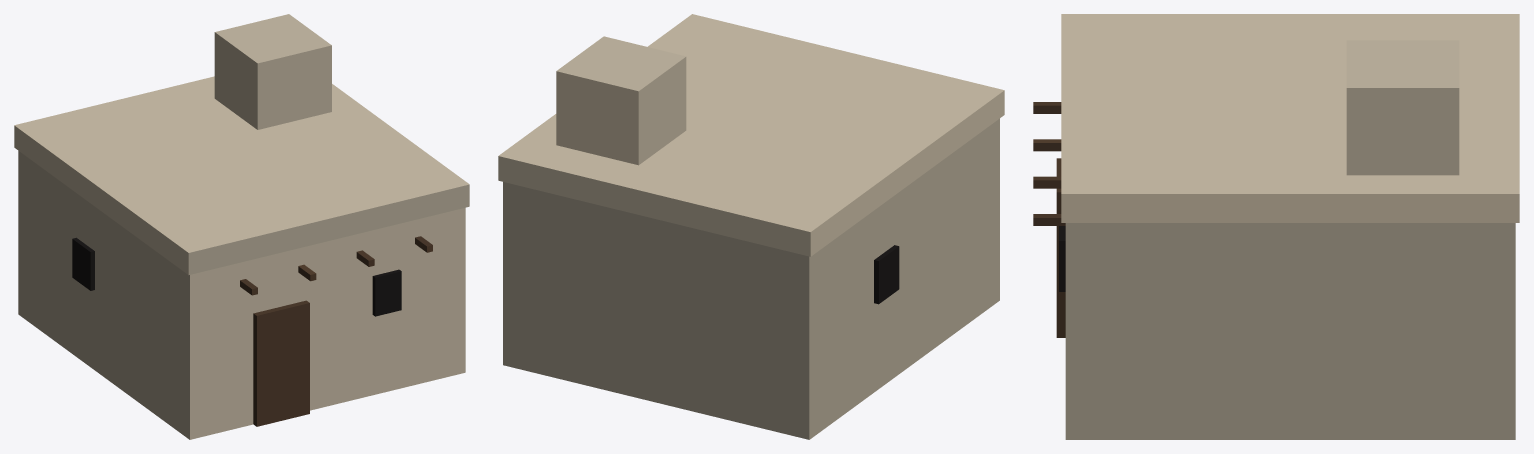
The model's file is sun_house.glb.
The picture shows the model from 3 angles, left to right: view 1: azimuth 30°, elevation 25°; view 2: azimuth 150°, elevation 25°; view 3: azimuth 270°, elevation 25°; orthographic projection. The views are drawn at different scales.
Parts seen in each view (by area): view 1: sun_house; view 2: sun_house; view 3: sun_house.
Part boxes in pixels (bbox=[...]): sun_house: bbox=[14, 14, 469, 439]; sun_house: bbox=[498, 14, 1004, 439]; sun_house: bbox=[1033, 14, 1519, 439].
Size of the model in its own units: 5.33 by 4.6 by 6.05.
1 material, 1 textured.
